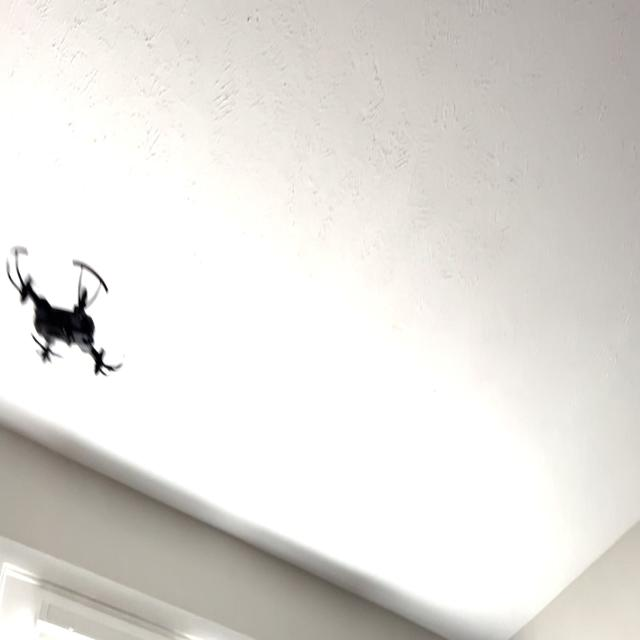drone: (1, 231, 130, 394)
